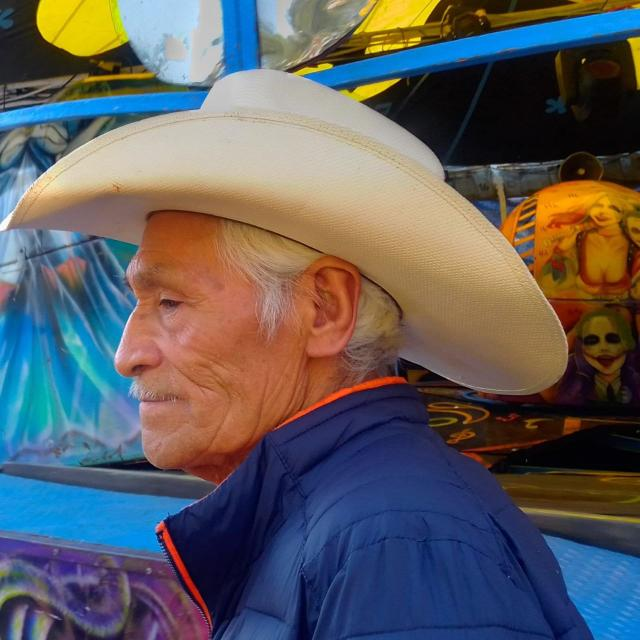ear: (304, 255, 361, 358)
